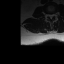CCS_normal: (50, 12, 52, 21)
LFS_normal: (54, 11, 56, 18)
LLS_normal: (51, 12, 54, 18)
RFS_normal: (46, 12, 48, 18)
RLS_normal: (48, 12, 50, 18)
